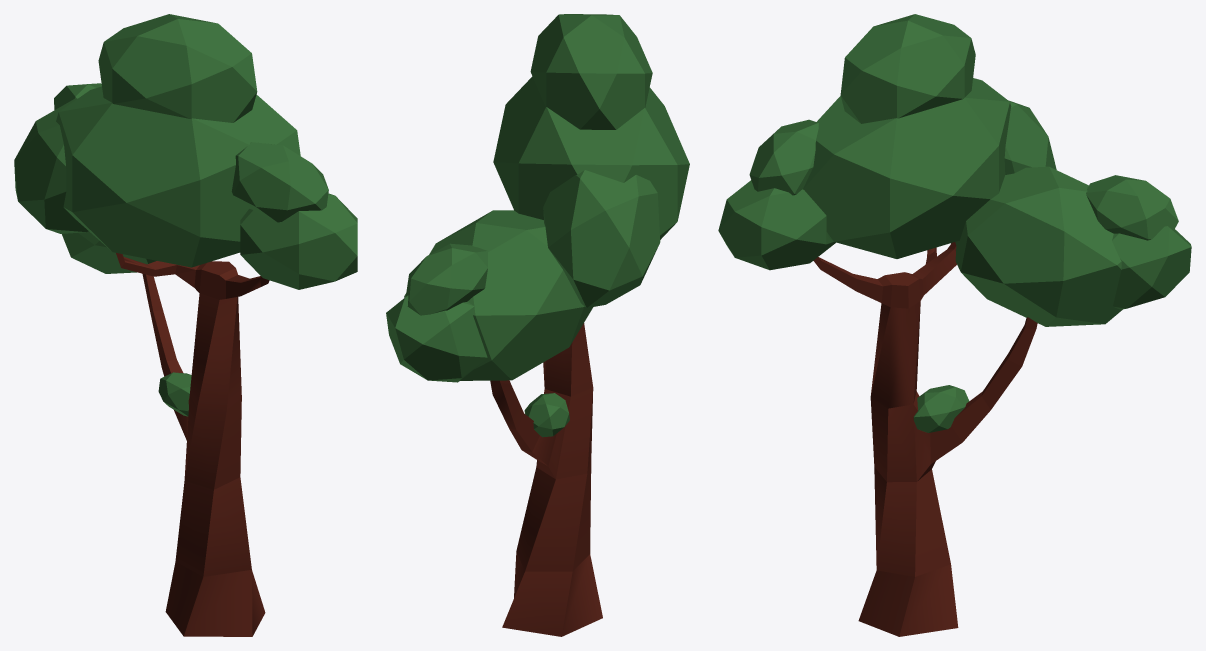
File: mesh_arbre_1.fbx
3 views of the same model, side by side, from view 1: azimuth 30°, elevation 25°; view 2: azimuth 150°, elevation 25°; view 3: azimuth 270°, elevation 25° (orthographic). The views are drawn at different scales.
Visible parts, largest first — view 1: Plane003; view 2: Plane003; view 3: Plane003.
Part boxes in pixels (x1=…): Plane003: x1=14, y1=14, x2=357, y2=636; Plane003: x1=386, y1=14, x2=689, y2=636; Plane003: x1=718, y1=14, x2=1191, y2=636.
Bounding box in the file's own units: 1.22 × 3.43 × 2.54.
